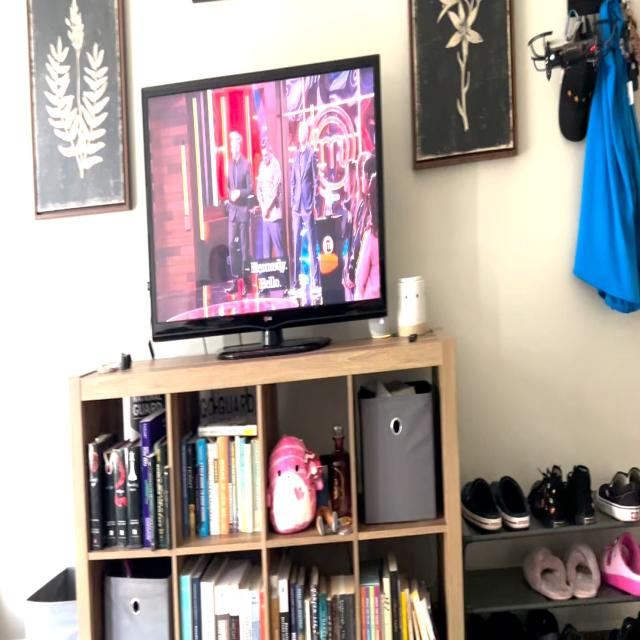drone: (522, 12, 627, 91)
